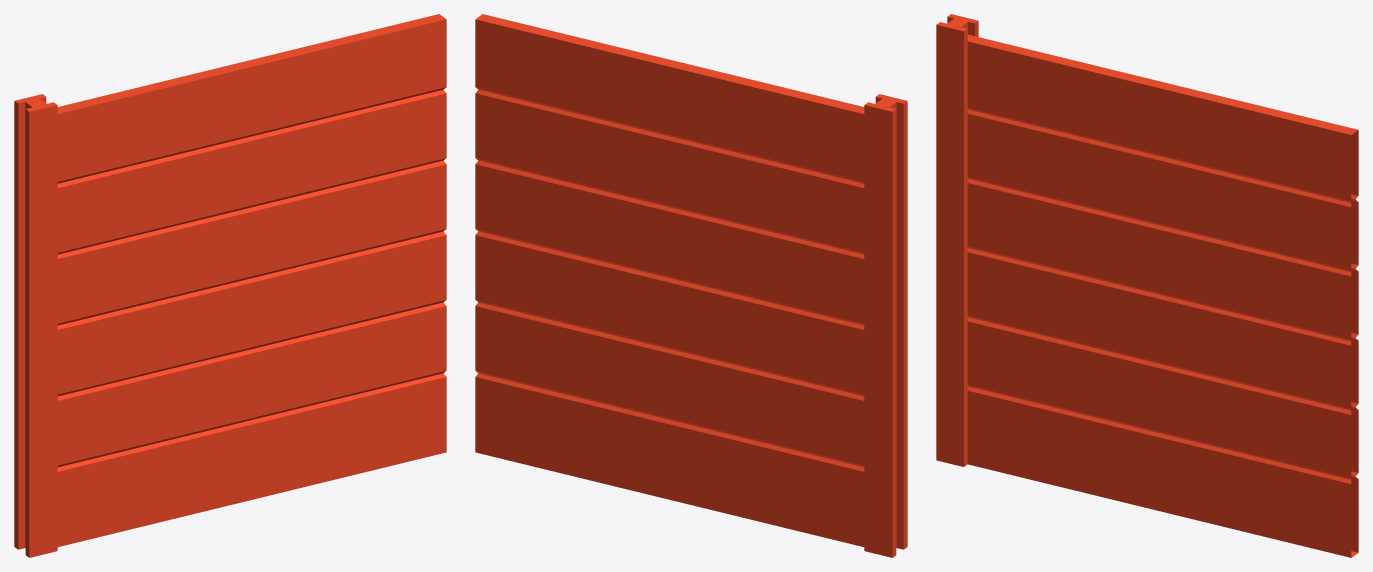
File: SM_Fence_Industrial_2m_City.fbx
The picture shows the model from 3 angles, left to right: view 1: azimuth 30°, elevation 25°; view 2: azimuth 150°, elevation 25°; view 3: azimuth 330°, elevation 25°; orthographic projection. The views are drawn at different scales.
Parts seen in each view (by area): view 1: SM_Fence_Industrial_2m_City; view 2: SM_Fence_Industrial_2m_City; view 3: SM_Fence_Industrial_2m_City.
Boxes of the visible parts, x1,y1,x2,y2 form: SM_Fence_Industrial_2m_City: (14, 14, 446, 557); SM_Fence_Industrial_2m_City: (475, 14, 907, 557); SM_Fence_Industrial_2m_City: (936, 14, 1358, 557).
Size of the model in its own units: 2.07 by 2.1 by 0.1284.
